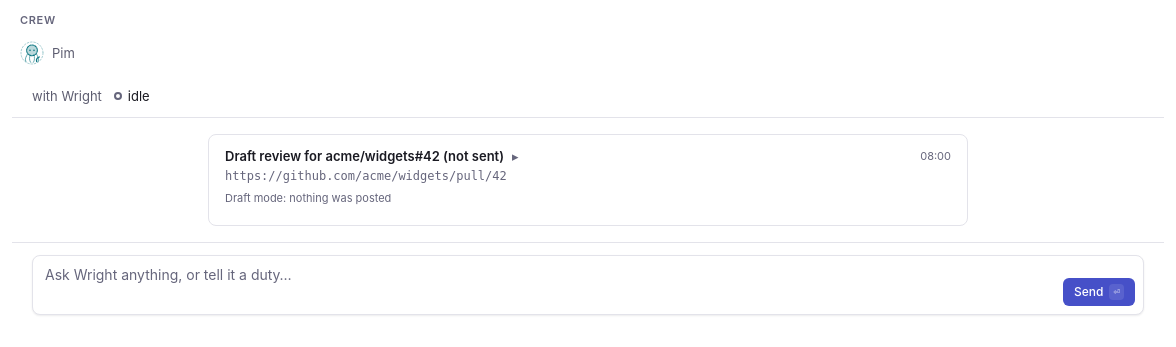
draft card › shows 'Reading the draft' while the detail read is pending
Expected: the text "Draft review for acme/widgets#42 (not sent)" is shown, [225,147,504,165]
Click the button "Draft review for acme/widgets#42 (not sent)" at (372, 156), box [225,147,519,165]
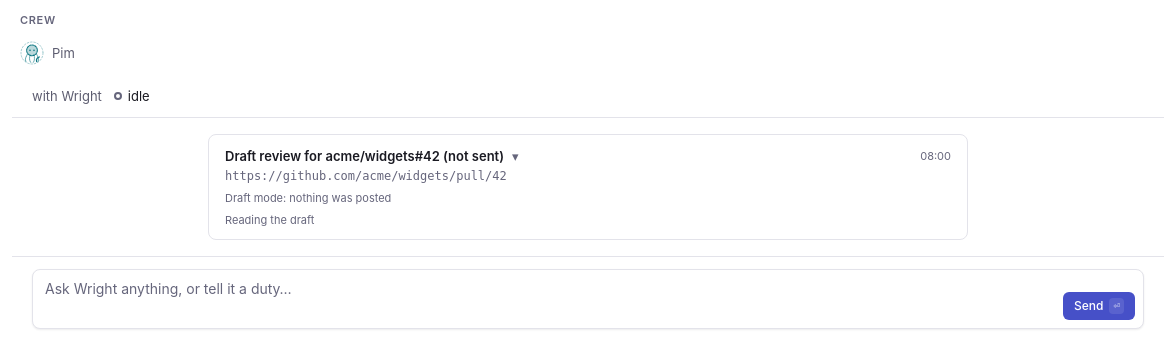
Result: the message reads "Reading the draft" at [225,213,314,227]
